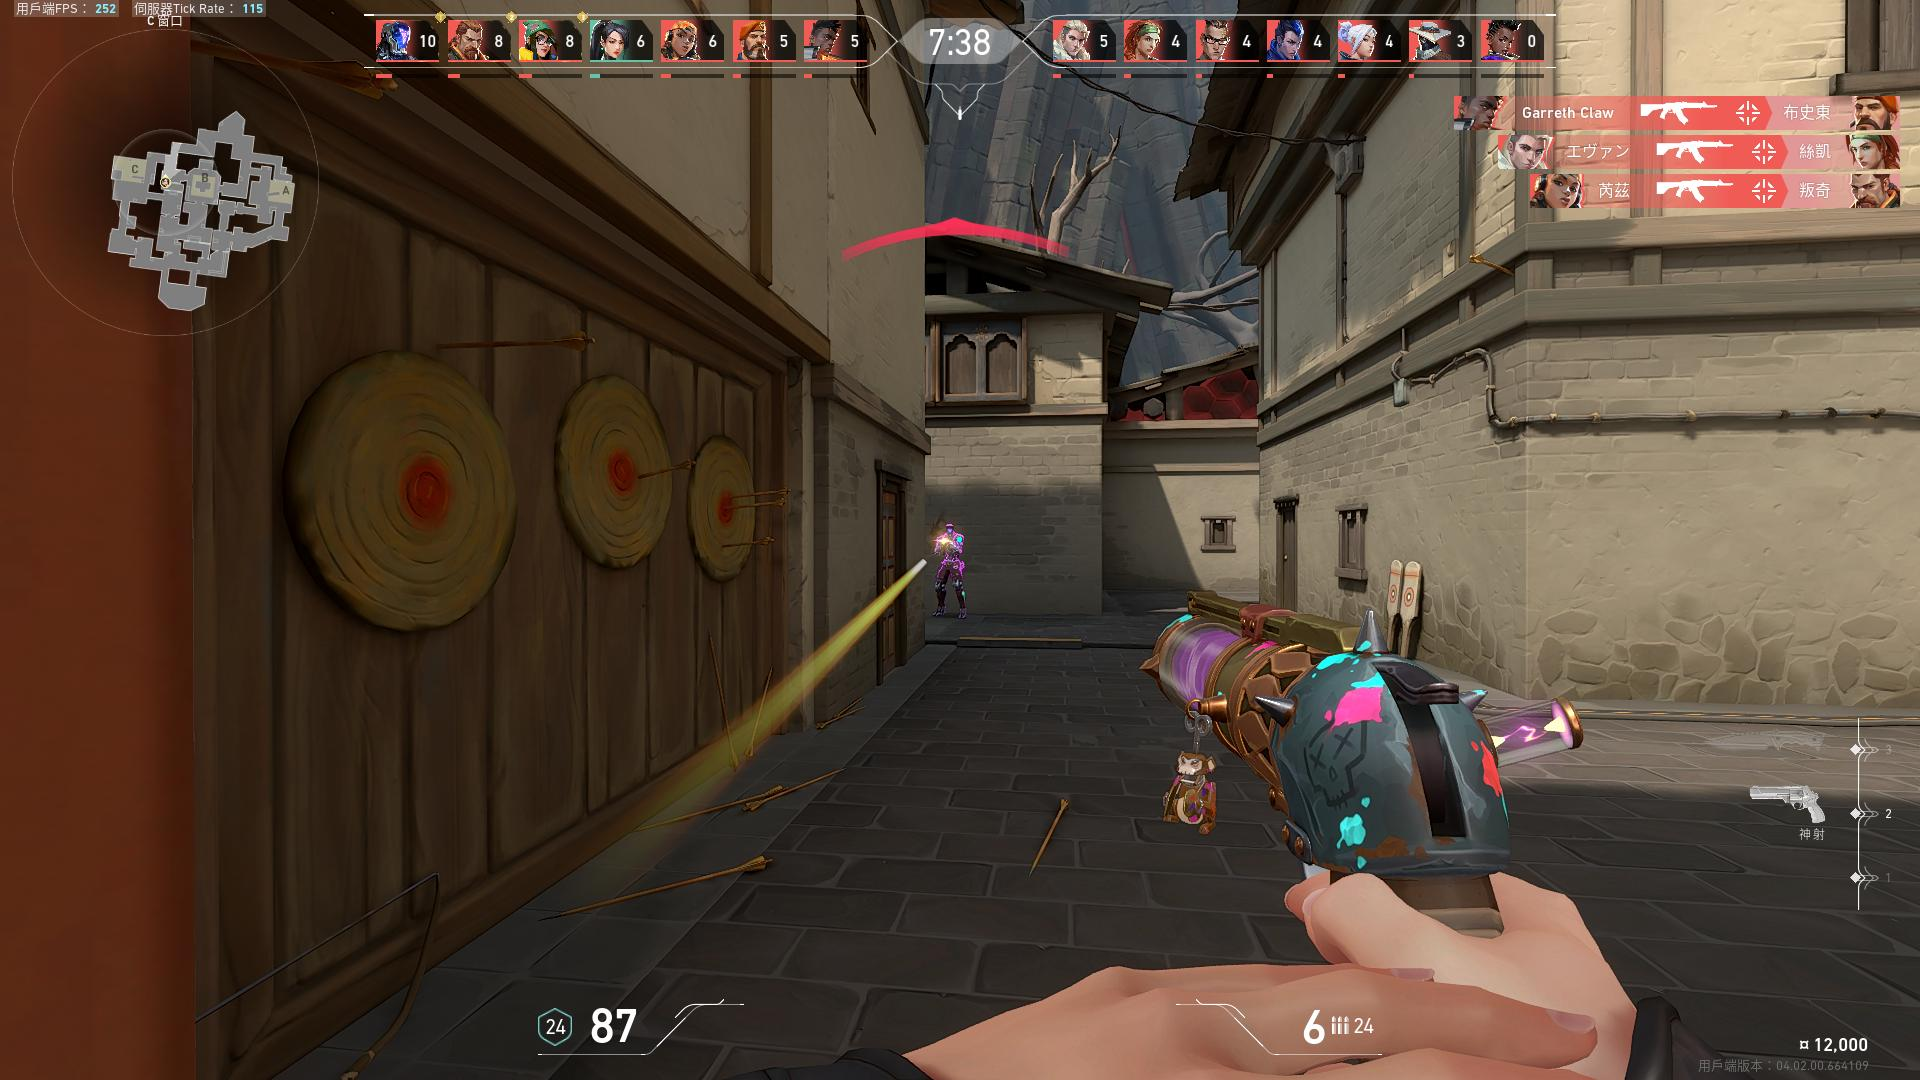enemyBody: (945, 535, 957, 560)
enemyHead: (945, 526, 953, 534)
